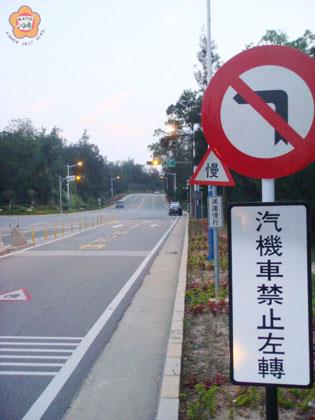No_left_turn: (199, 46, 315, 180)
